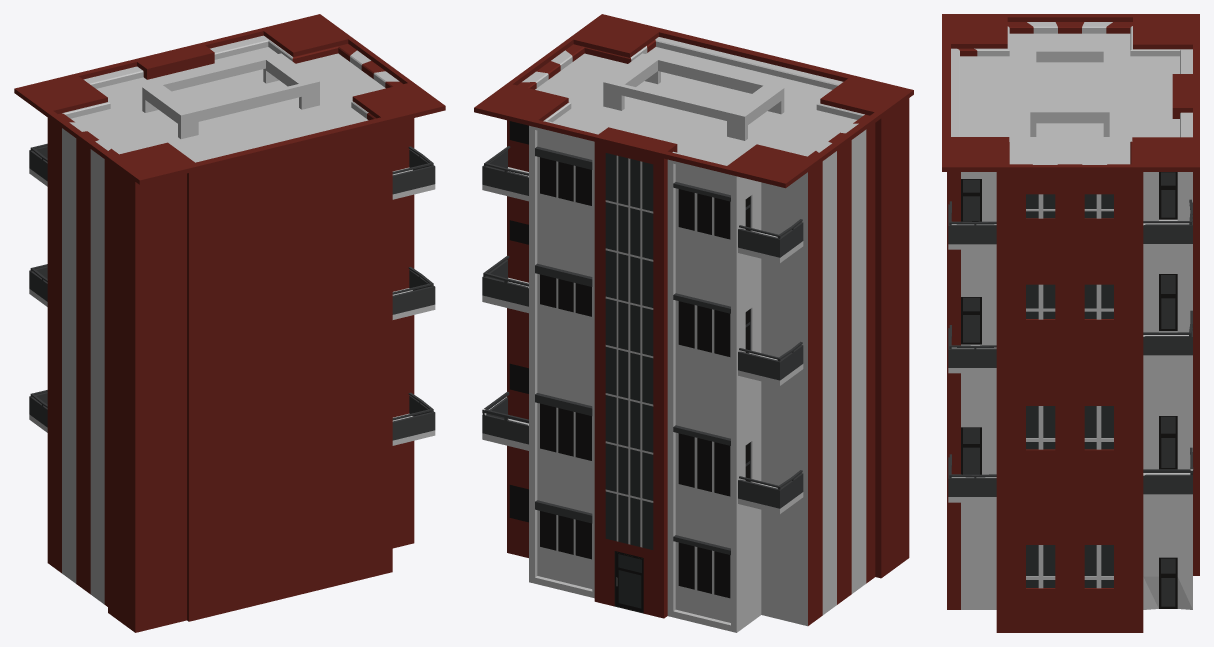
Rendered from apt-5.glb.
The picture shows the model from 3 angles, left to right: view 1: azimuth 30°, elevation 25°; view 2: azimuth 150°, elevation 25°; view 3: azimuth 270°, elevation 25°; orthographic projection. The views are drawn at different scales.
Size of the model in its own units: 2.07 by 3.03 by 1.47.
